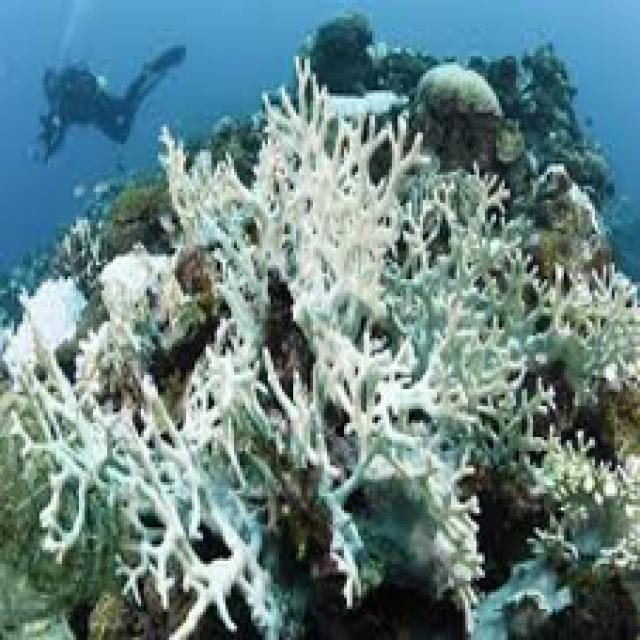Bleached: (24, 371, 271, 631), (276, 320, 481, 612), (250, 92, 395, 332), (389, 176, 514, 330), (525, 436, 640, 582), (158, 137, 284, 257), (473, 265, 535, 496), (196, 240, 279, 394), (545, 289, 640, 396), (6, 273, 82, 373), (102, 249, 183, 332), (419, 63, 500, 120)
